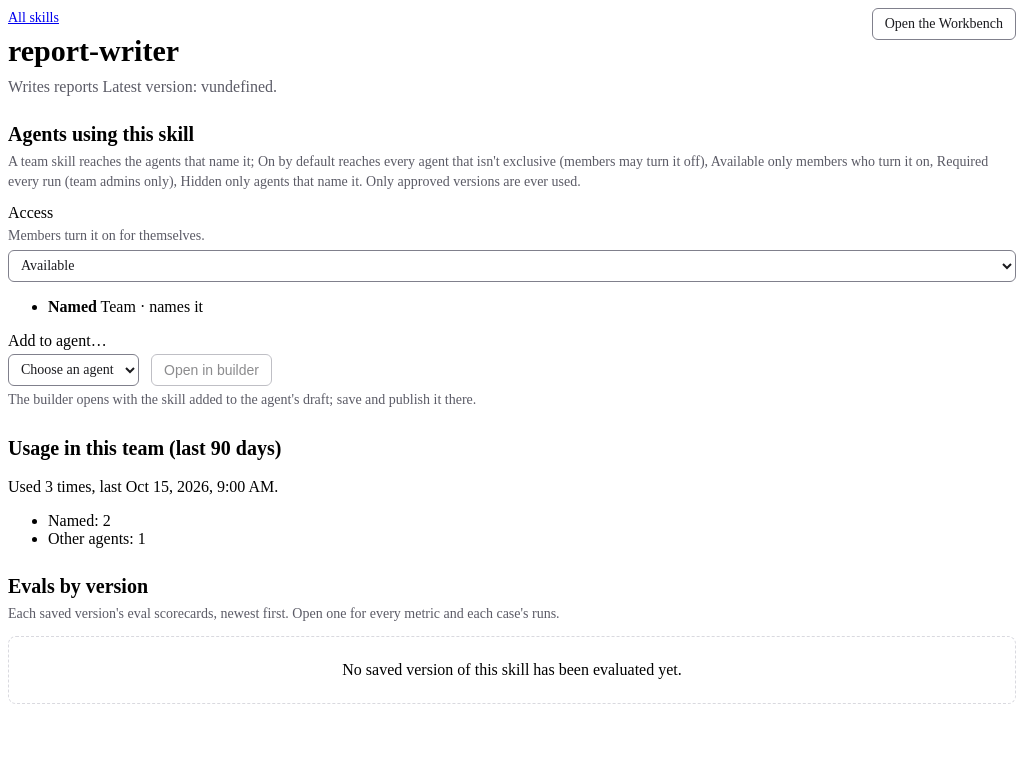
Test: team skill reach (KOBE-297) › warns when the team reaches 5 Required skills
Select "Required" in the dropdown labelled "Access" at coordinates (512, 266), box x1=8 y1=250 x2=1016 y2=282
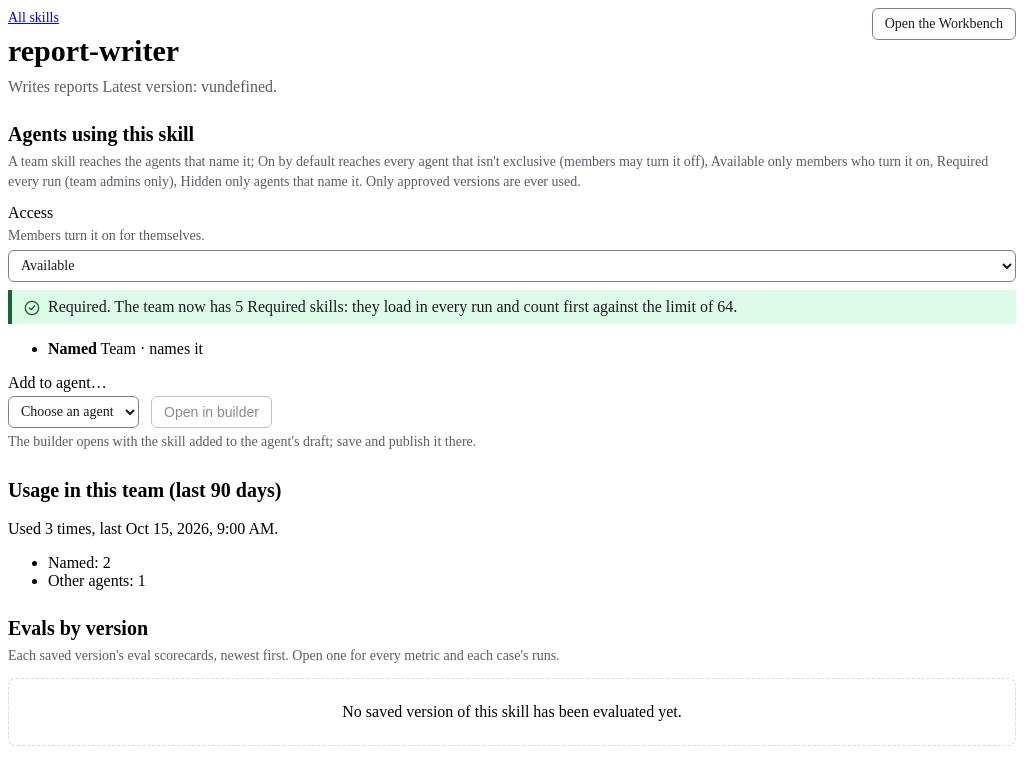
Expected: the text "5 Required skills" shows "limit of 64", x1=48 y1=298 x2=737 y2=314
